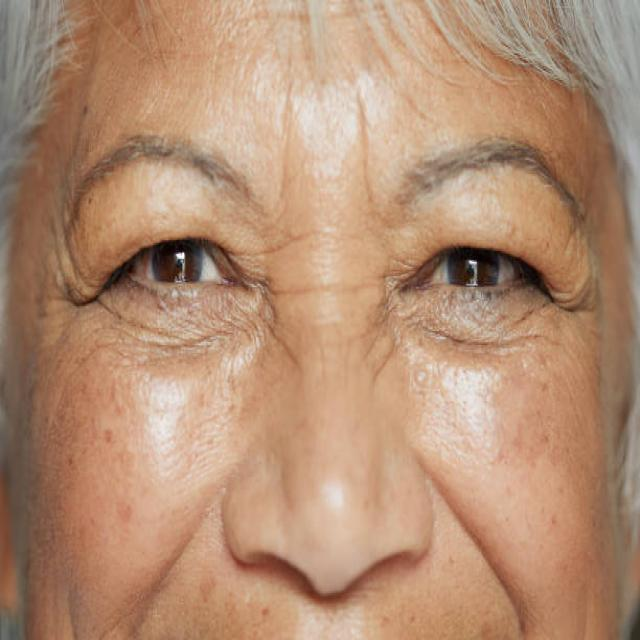Dry-Skin: (21, 298, 270, 588), (408, 309, 619, 599), (209, 14, 427, 251)
